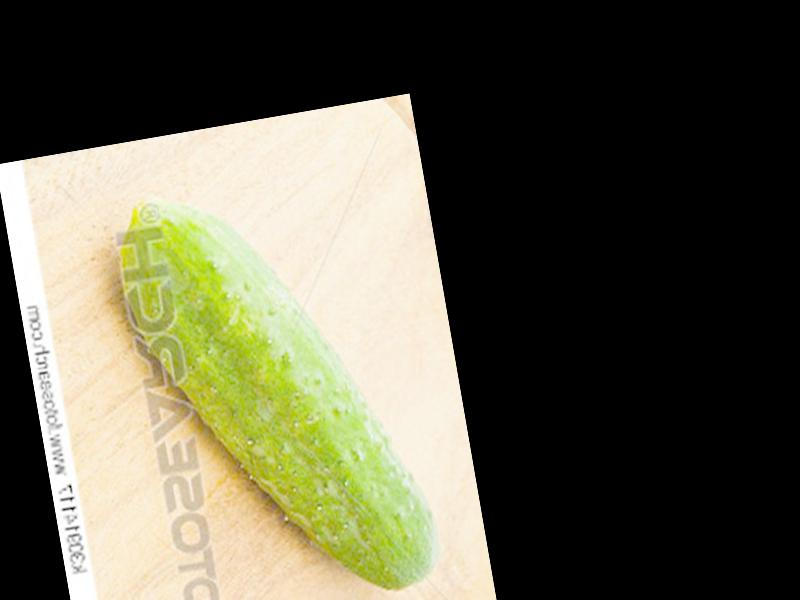Cucumber: (105, 159, 446, 600)
